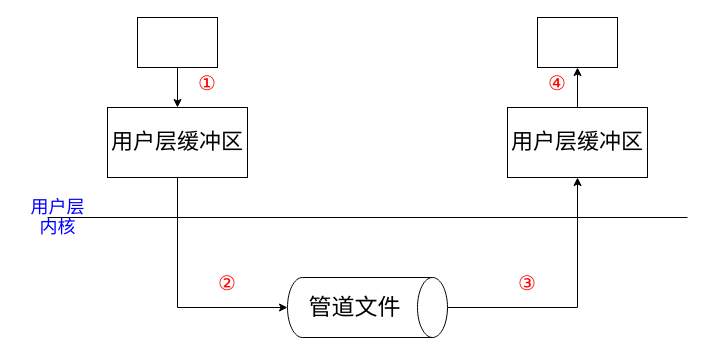
Some shapes in this 706 by 355 pixel diagram are drawn without their labels. The shapes that lost their labels are listed below. From the top down, each one's centre as x and y in pixels, then its label:
At (x=177, y=42): "键盘".
At (x=577, y=42): "显示器".
